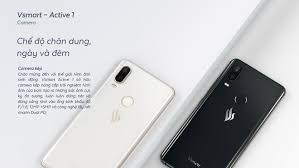vsmart: (158, 59, 286, 168)
